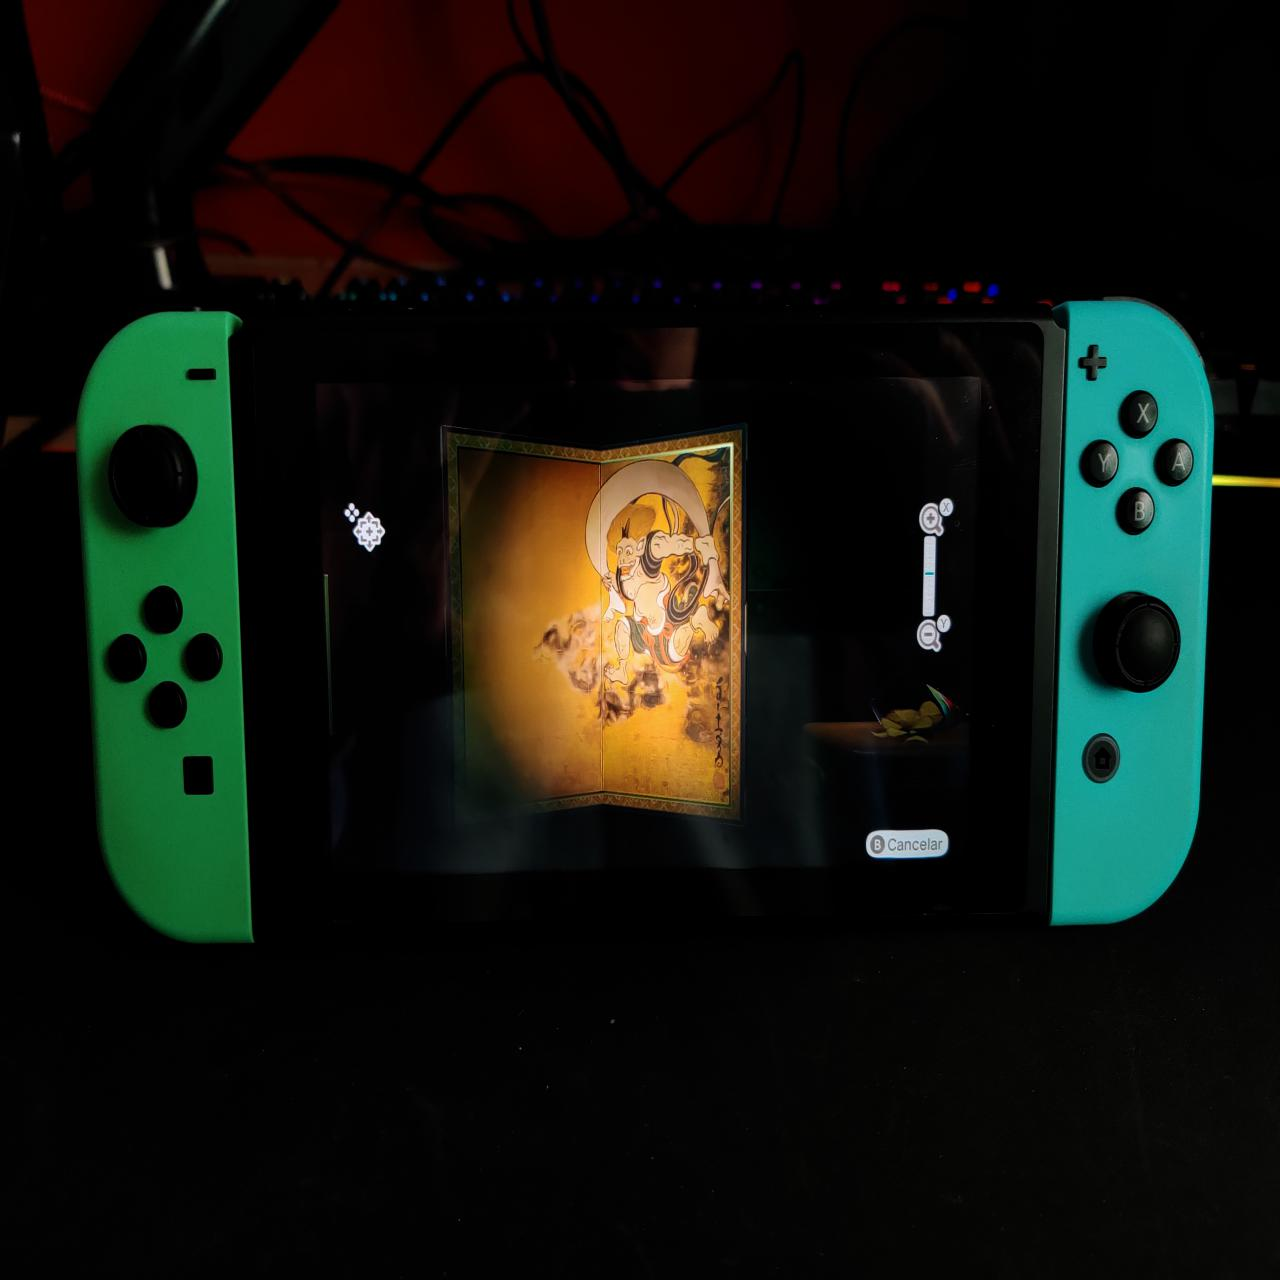FuujinFake: (444, 423, 744, 823)
